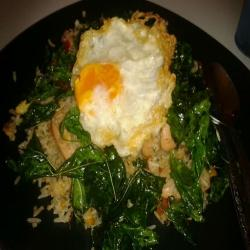omelette: (71, 12, 180, 155)
salad: (1, 74, 92, 232)
